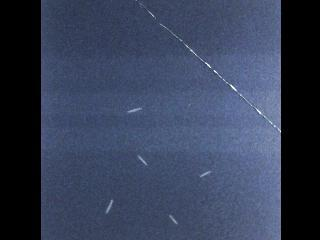crack: (139, 0, 280, 132)
scratch: (101, 196, 119, 217), (195, 165, 215, 183), (124, 102, 144, 117), (134, 151, 149, 168), (165, 212, 182, 227)
